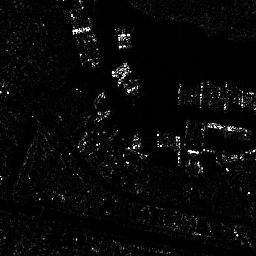ship: (208, 121, 247, 135)
